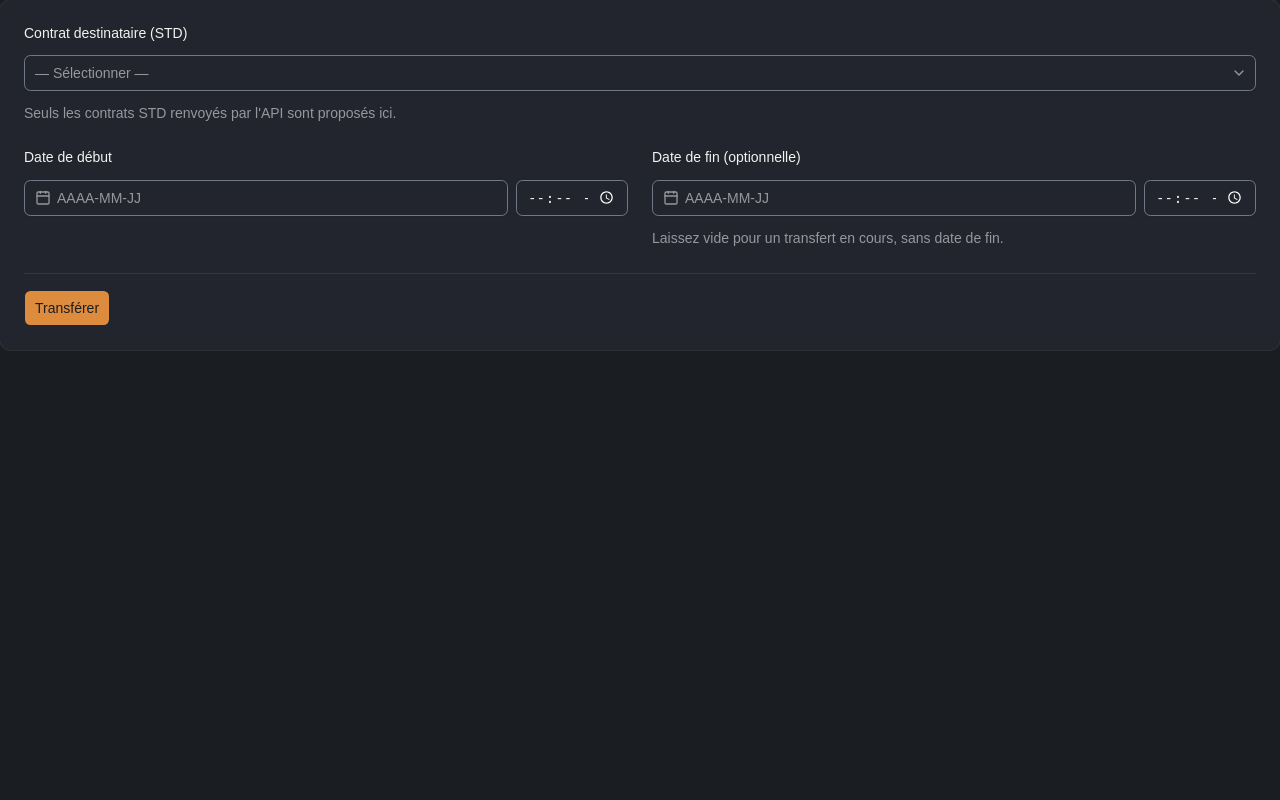
Test case: TransferForm (KAN-169 FR14-FR17) › disables the submit control after a 409 contract_inactive response (FR4/FR17 shared primitive)
This screenshot has width=1280, height=800.
Expected: the form with test id "transfer-form" is shown, [24,24,1256,326]
Click the dropdown with test id "transfer-field-target" at (92, 73), box [24,55,1256,91]
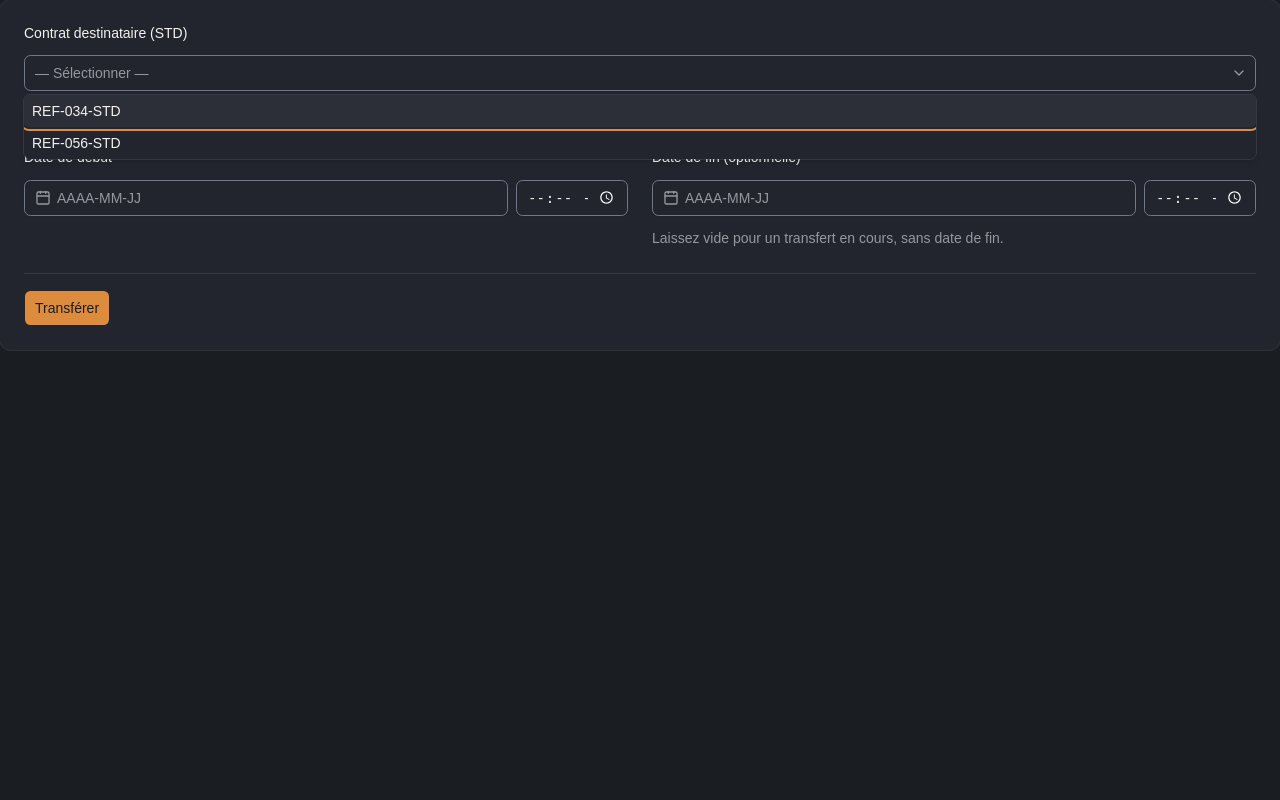
Click the option with test id "transfer-target-option-34" at (76, 111), box [24,95,1256,127]
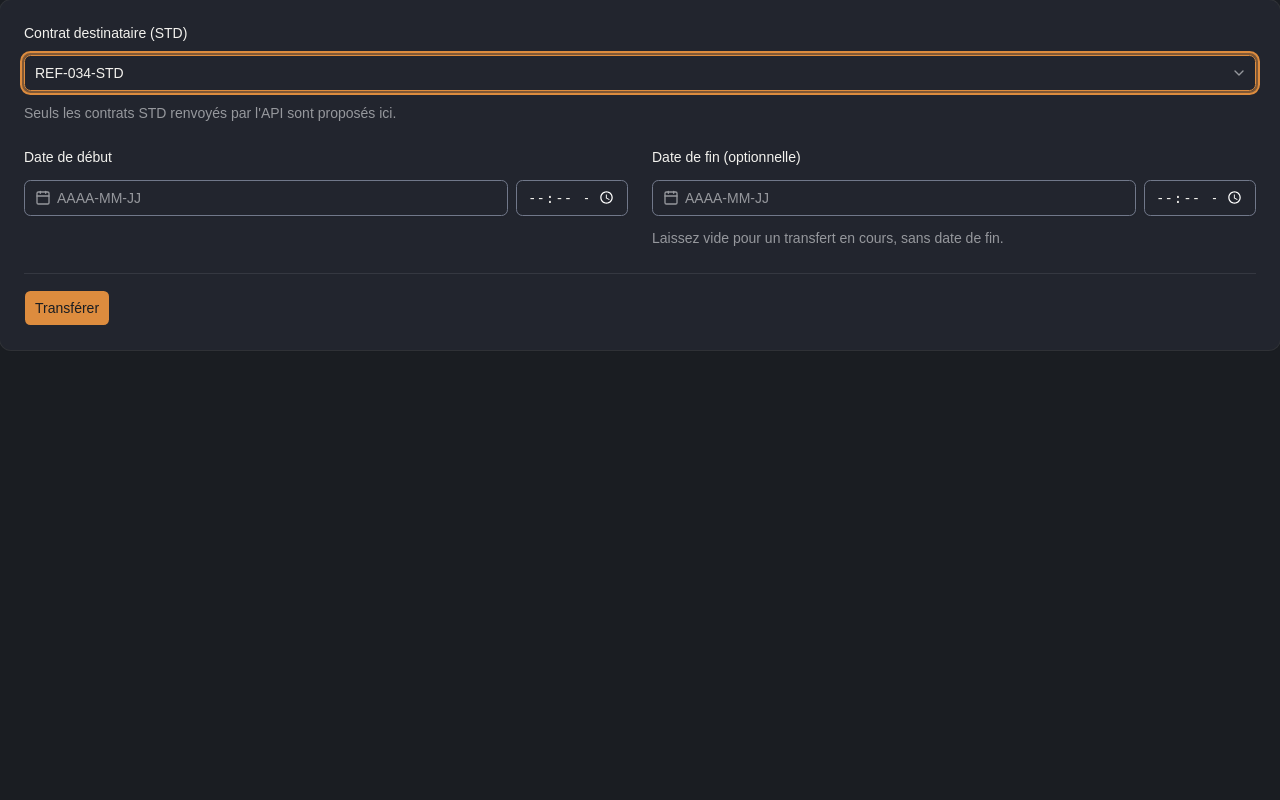
Click the button "AAAA-MM-JJ" below "Date de début" at (99, 198), box [24,180,508,216]
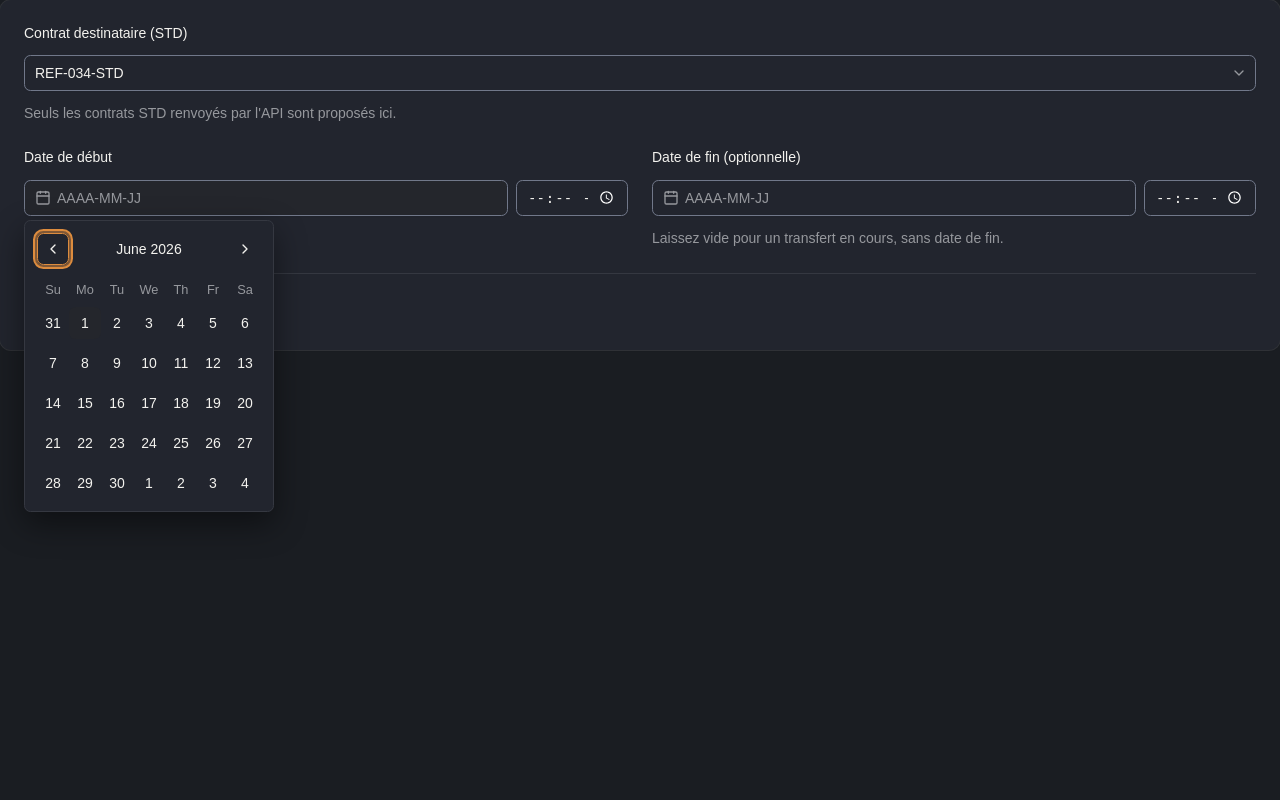
Click the button "10" at (149, 363), box [133,347,165,379]
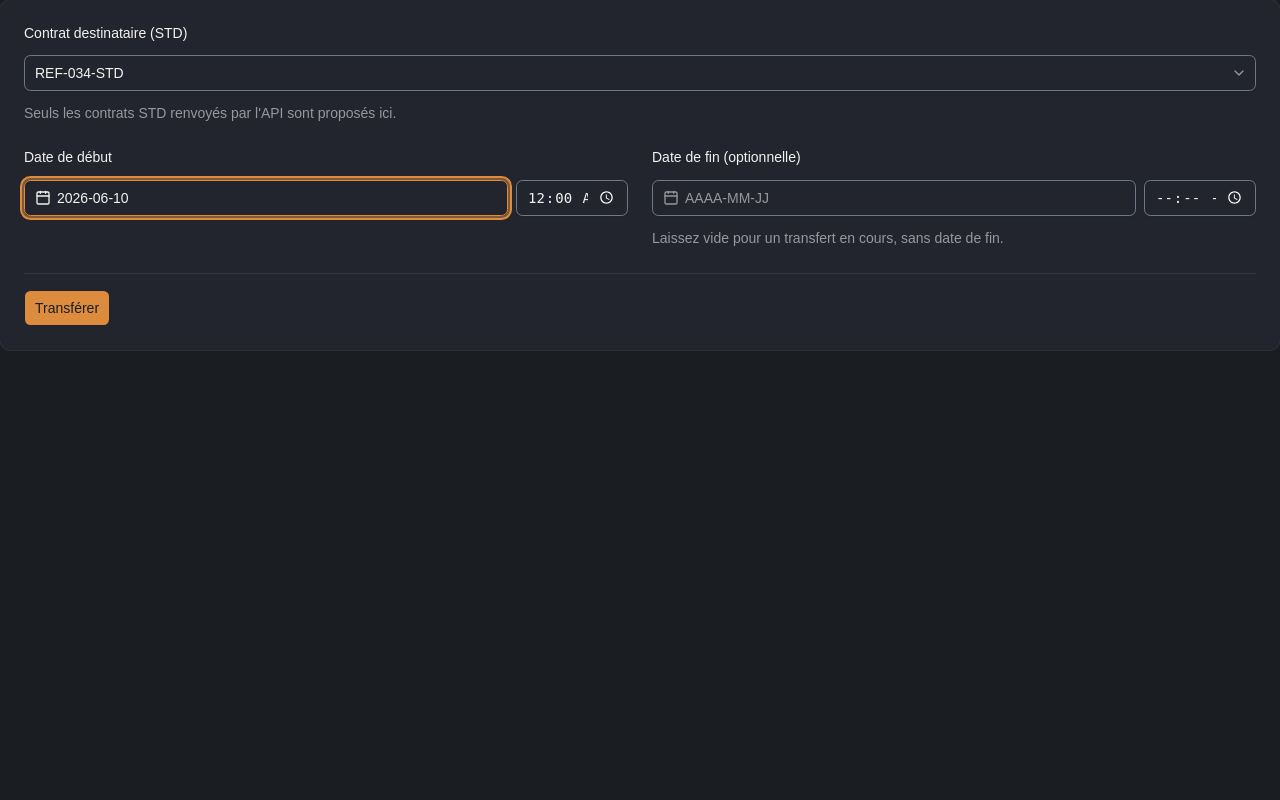
Click the button with test id "transfer-form-submit" at (67, 308), box [24,290,110,326]
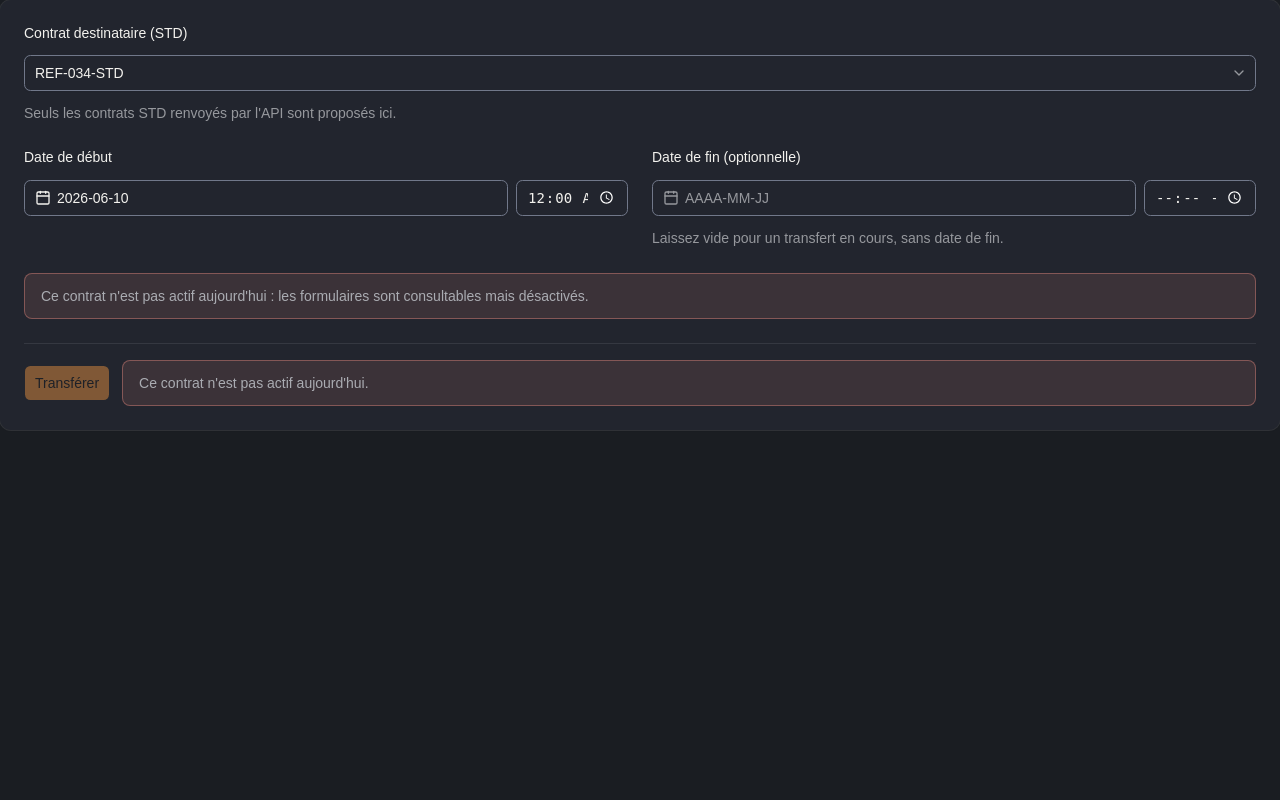
Expected: the message with test id "transfer-contract-inactive" is shown, [24,272,1256,318]
Expected: the button with test id "transfer-form-submit" is disabled, [24,364,110,400]
